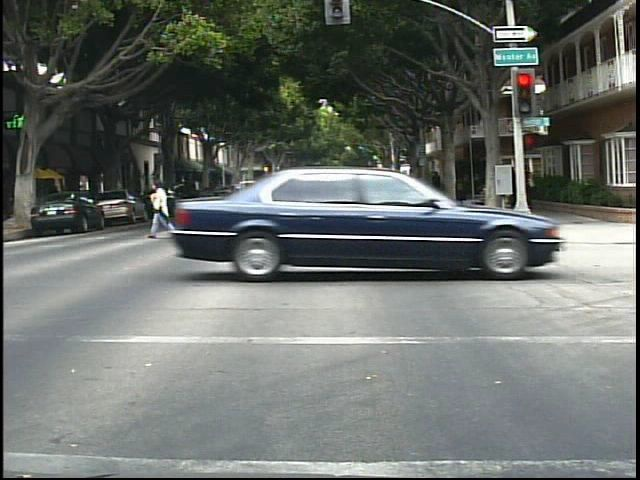person: (142, 172, 183, 242), (432, 168, 445, 193)
